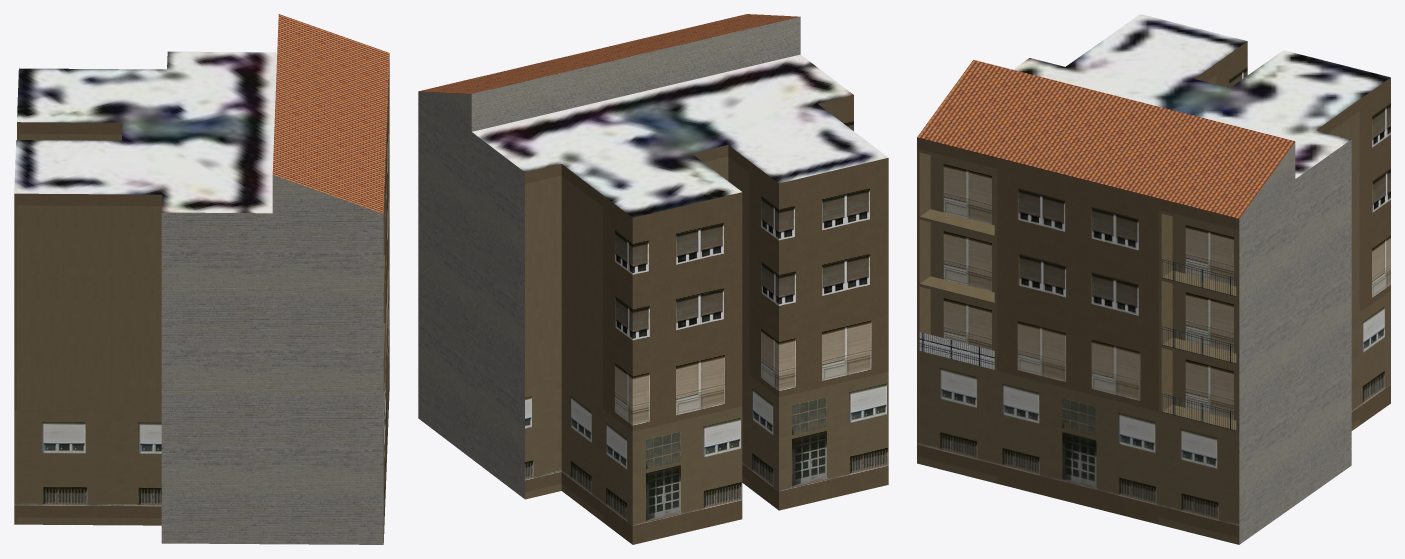
File: Building013.dae
3 renders of one model, left to right at view 1: azimuth 30°, elevation 25°; view 2: azimuth 150°, elevation 25°; view 3: azimuth 270°, elevation 25°, orthographic.
Visible parts, largest first — view 1: SketchUp (×5); view 2: SketchUp (×4); view 3: SketchUp (×26).
Boxes of the visible parts, x1=… form: SketchUp (×5): x1=14, y1=14, x2=389, y2=544; SketchUp (×4): x1=418, y1=14, x2=888, y2=544; SketchUp (×26): x1=917, y1=14, x2=1390, y2=544.
Size of the model in its own units: 915 by 894 by 758.
Materials: 16 (16 with a texture image).
